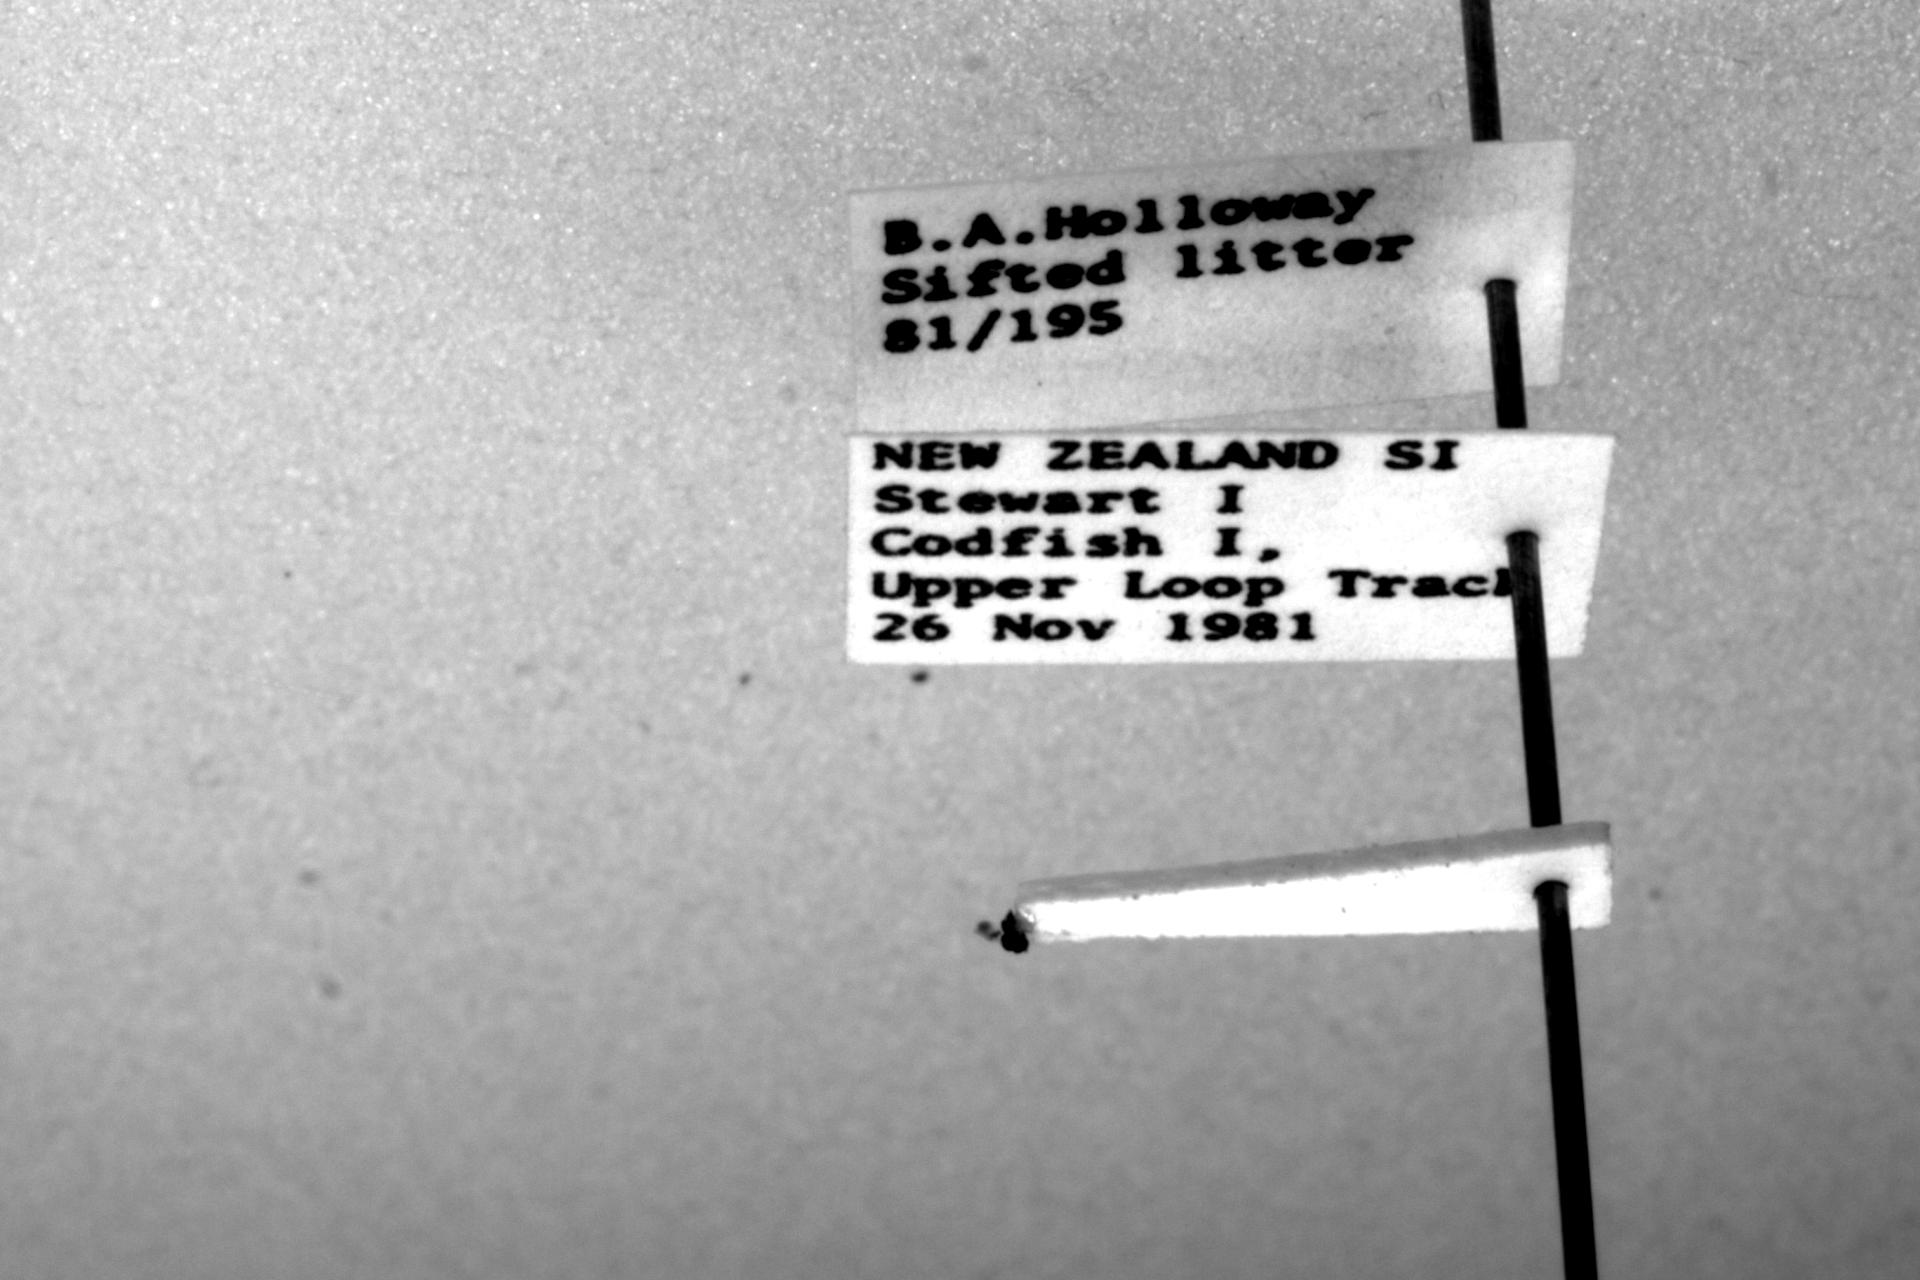typed_label: (851, 143, 1574, 431), (847, 431, 1613, 664)
